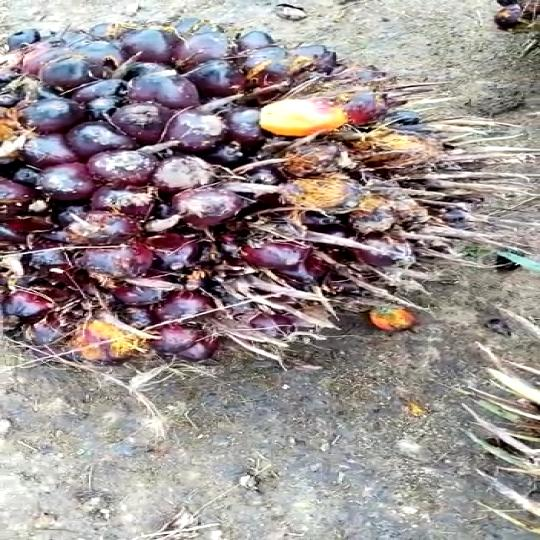masak: (0, 10, 491, 381)
